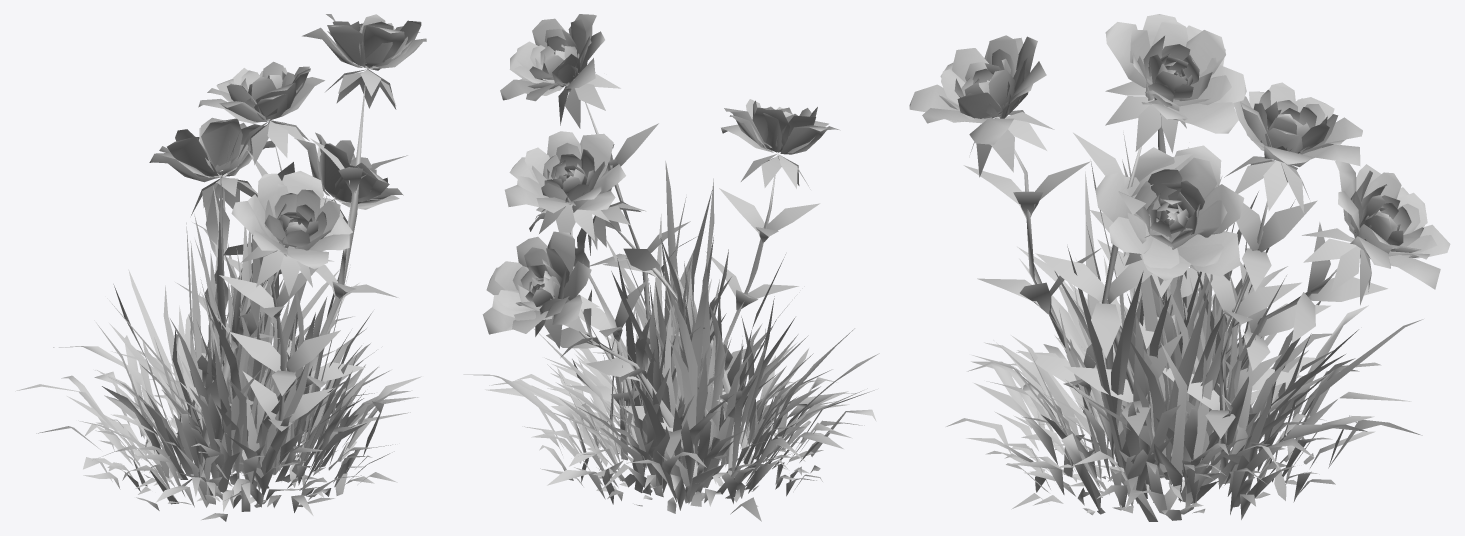
File: Roses Orange.fbx
3 renders of one model, left to right at view 1: azimuth 30°, elevation 25°; view 2: azimuth 150°, elevation 25°; view 3: azimuth 270°, elevation 25°, orthographic. The views are drawn at different scales.
Visible parts, largest first — view 1: Roses_Orange_LOD00; view 2: Roses_Orange_LOD00; view 3: Roses_Orange_LOD00.
Part boxes in pixels (bbox=[...]): Roses_Orange_LOD00: bbox=[15, 14, 426, 521]; Roses_Orange_LOD00: bbox=[463, 14, 879, 521]; Roses_Orange_LOD00: bbox=[909, 14, 1450, 521].
Size of what is drawn, in the model's own units: 94.91 by 108 by 102.
